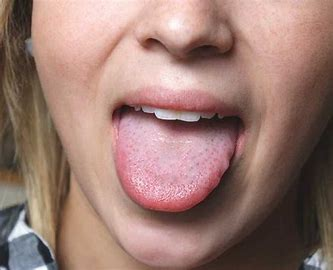baitaishe: (116, 121, 238, 212)
chihenshe: (215, 147, 235, 182)
